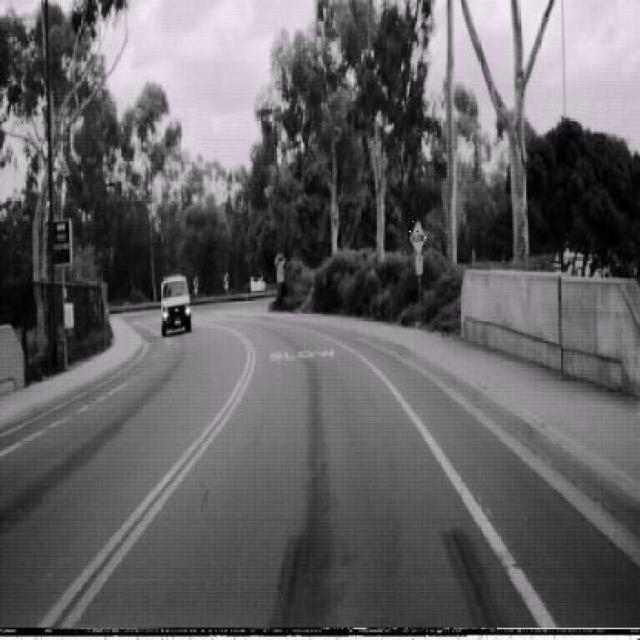slow: (410, 218, 428, 256)
turnRight: (274, 250, 286, 272)
